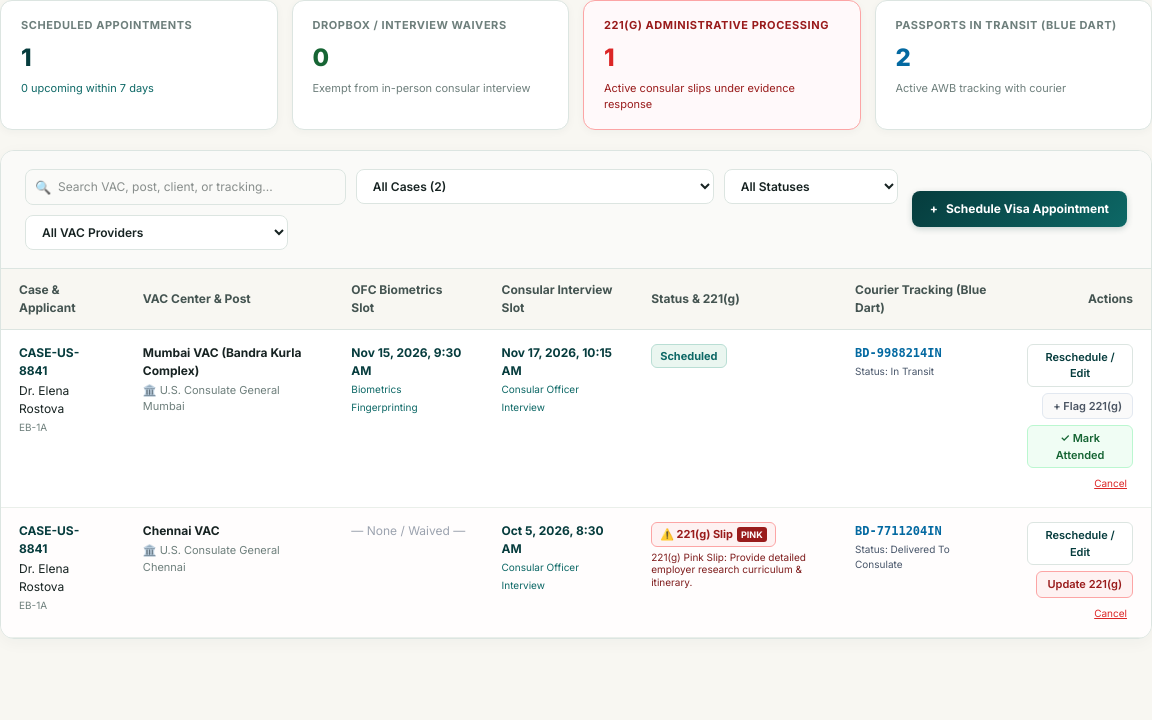
Test: VisaAppointmentDesk Component › filters appointments by status correctly
expect the text "Mumbai VAC (Bandra Kurla Complex)" is shown: met, box [143,344,315,380]
Select status filter "221g"
Select "⚠️ 221(g) Hold" in the 2nd dropdown showing "All Statuses" at (811, 186), box [724,169,898,204]
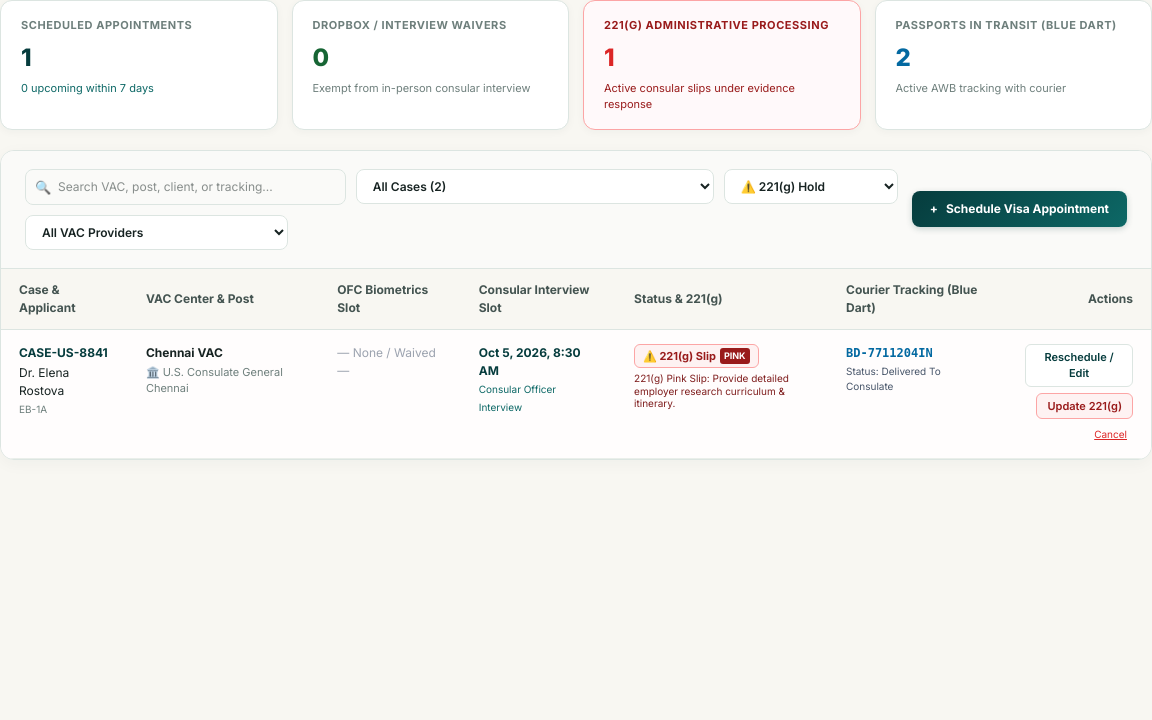
expect the text "Chennai VAC" is shown: met, box [146,344,223,360]
expect the text "Mumbai VAC (Bandra Kurla Complex)" is gone: met
